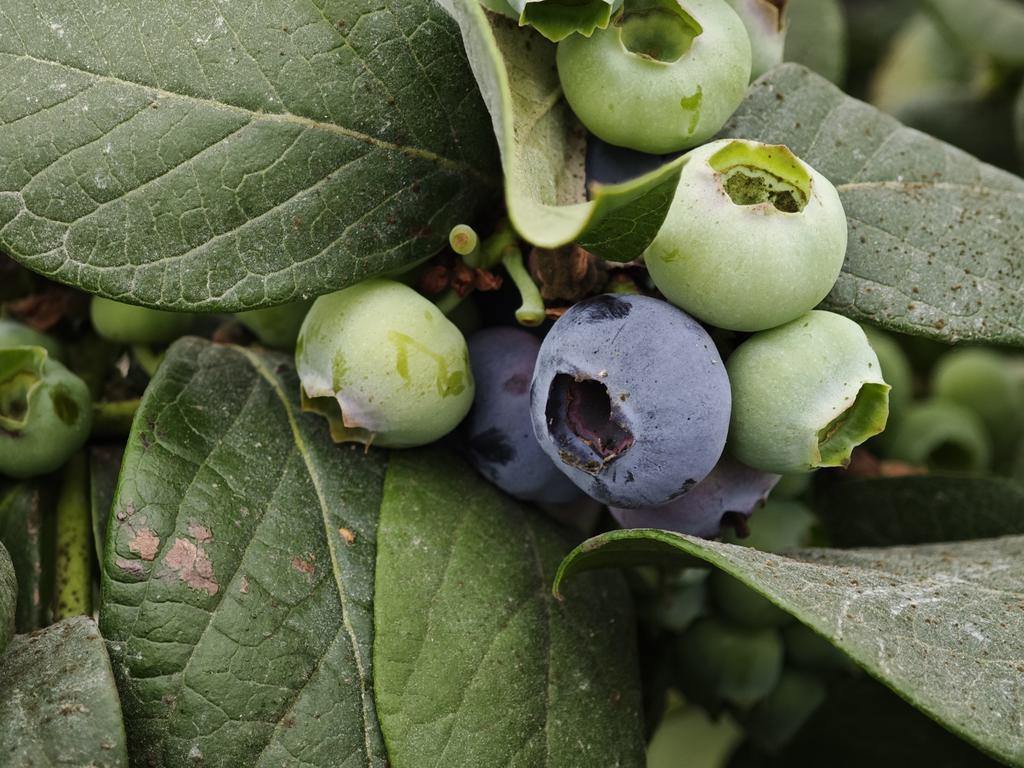RipeBlueBerry: (524, 288, 732, 513)
UnripeBlueBerry: (642, 136, 854, 332), (290, 278, 479, 450), (730, 310, 896, 475)
